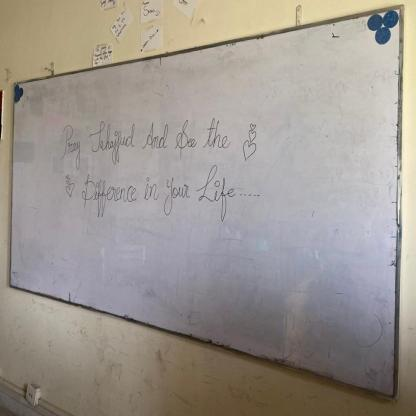Handwritten text: (50, 103, 243, 168), (74, 162, 246, 224)
Whiteboard: (6, 4, 402, 399)
